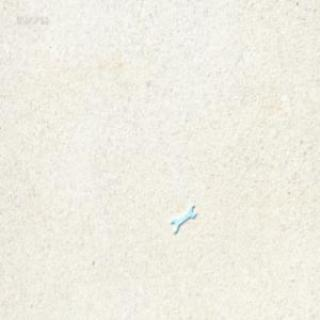Wrenchtrack_idkeyframe: (170, 201, 197, 232)
